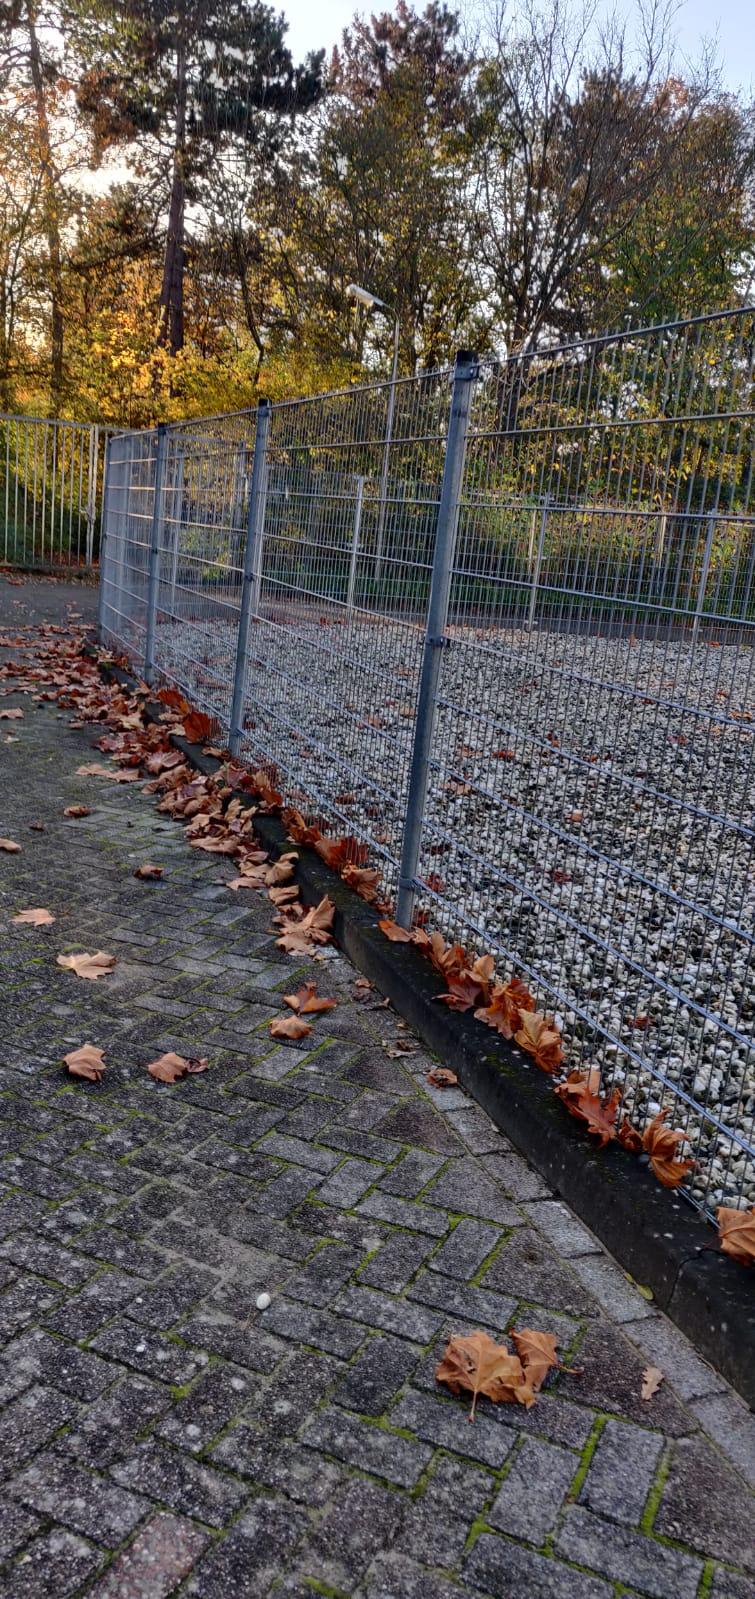obstacle: (0, 524, 458, 1561)
